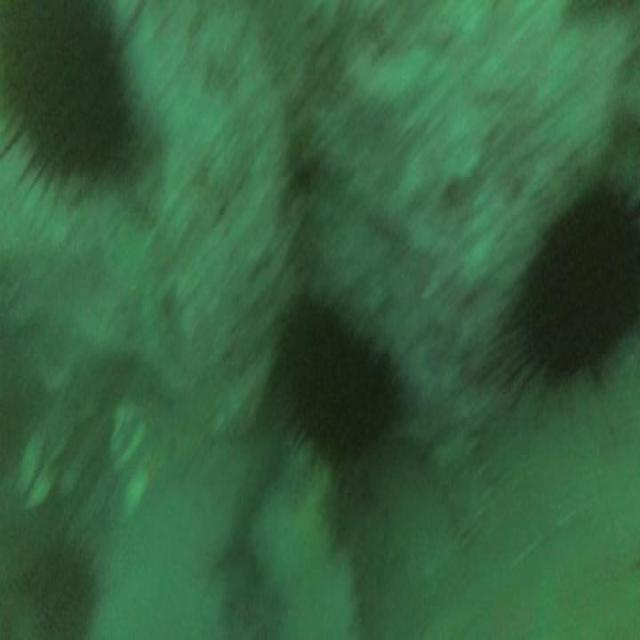echinus: (476, 168, 640, 414), (0, 0, 156, 218), (282, 289, 402, 485), (15, 512, 114, 640)
